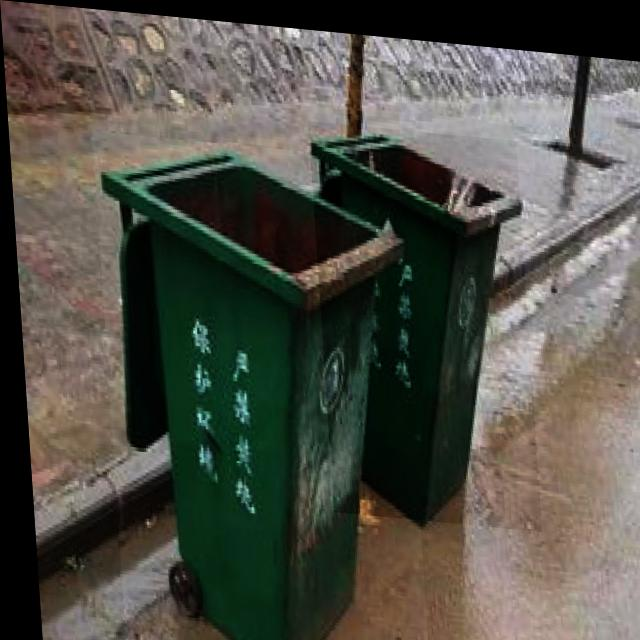garbage_bin: (91, 129, 421, 640), (307, 115, 536, 522)
